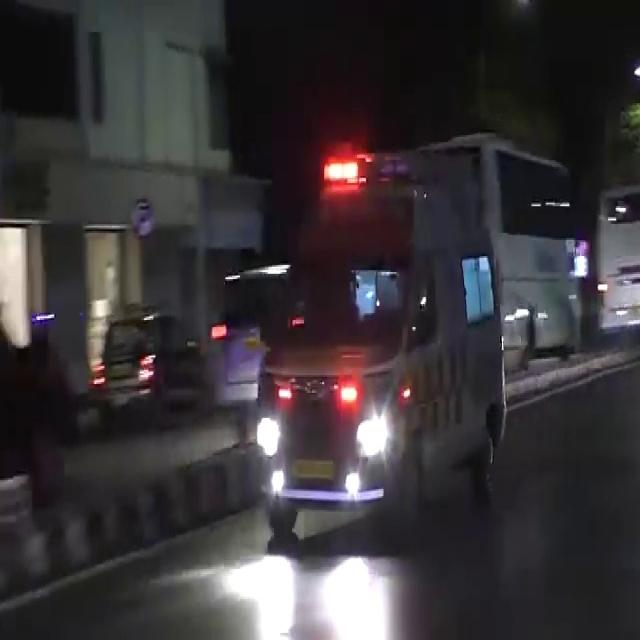ambulance: (252, 188, 528, 542)
